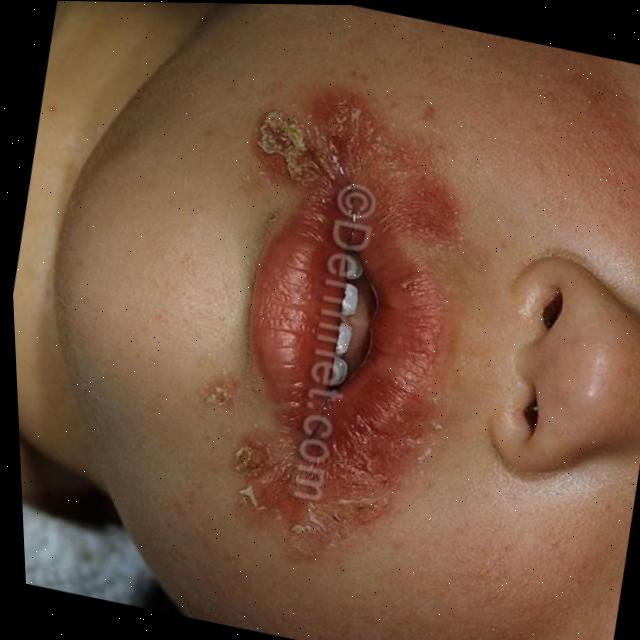Eczema: (154, 73, 484, 575)
